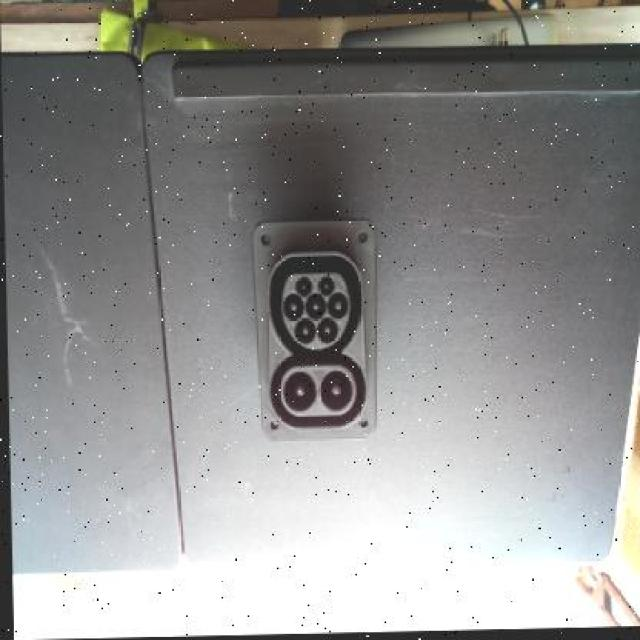CCS2: (245, 214, 393, 444)
